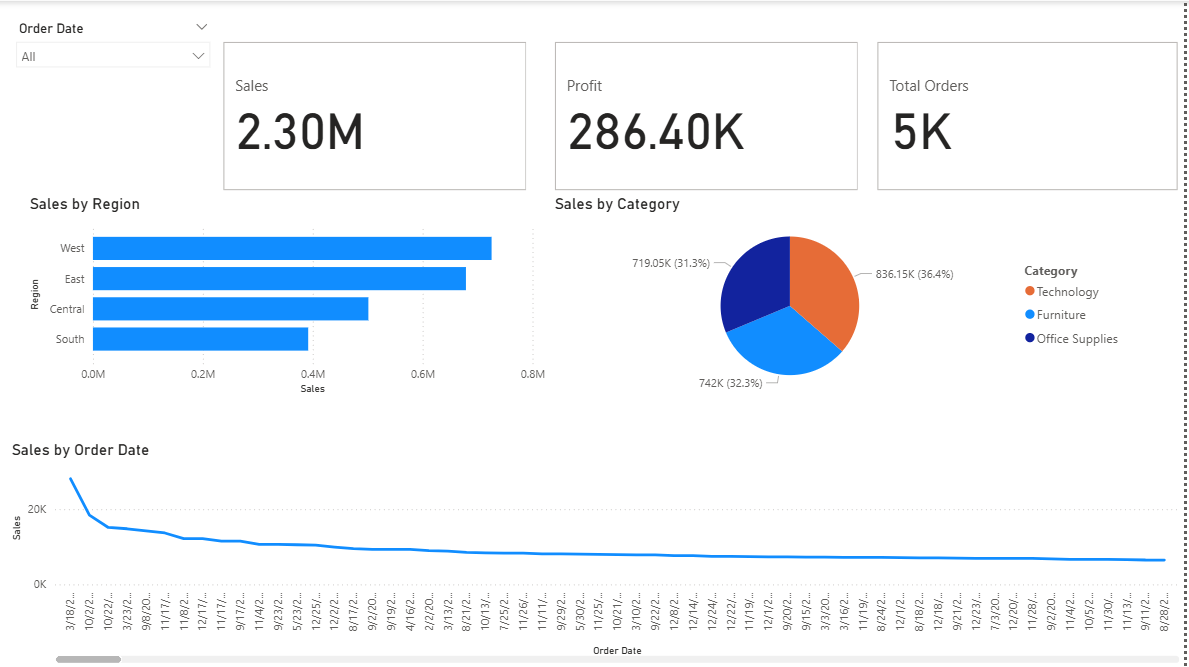

This screenshot's page, from the dashboard's own definition file:
{"tool":"powerbi","page":{"name":"Sales Overview","canvas":[1280,720],"ordinal":0},"visuals":[{"type":"cardVisual","fields":{"Data":["Sum(Sample - Superstore.Sales)"]},"box":[238.3,38.2,337.2,170.9],"z":0},{"type":"cardVisual","fields":{"Data":["Sum(Sample - Superstore.Profit)"]},"box":[595.8,38.2,337.2,170.9],"z":1000},{"type":"cardVisual","fields":{"Data":["Sample - Superstore.Total Orders"]},"box":[944.3,38.2,335,170.9],"z":2000},{"type":"clusteredBarChart","fields":{"Category":["Sample - Superstore.Region"],"Y":["Sum(Sample - Superstore.Sales)"]},"box":[29.2,209.1,566.6,220.3],"z":3000},{"type":"pieChart","fields":{"Category":["Sample - Superstore.Category"],"Y":["Sum(Sample - Superstore.Sales)"]},"box":[595.8,209.1,627.3,220.3],"z":4000},{"type":"lineChart","fields":{"Category":["Sample - Superstore.Order Date"],"Y":["Sum(Sample - Superstore.Sales)"]},"box":[9,474.4,1270.3,245.1],"z":5000},{"type":"slicer","fields":{"Values":["Sample - Superstore.Order Date"]},"box":[9,15.7,229.3,107.9],"z":5001}]}

Visuals, with their boxes in screenshot pixels (x1, y1, x2, y2), scaled from the page's 1280x720 canvas onto the 1189x667 screenshot:
cardVisual - Sum(Sample - Superstore.Sales): [left=221, top=35, right=535, bottom=194]
cardVisual - Sum(Sample - Superstore.Profit): [left=553, top=35, right=867, bottom=194]
cardVisual - Sample - Superstore.Total Orders: [left=877, top=35, right=1188, bottom=194]
clusteredBarChart - Sample - Superstore.Region x Sum(Sample - Superstore.Sales): [left=27, top=194, right=553, bottom=398]
pieChart - Sample - Superstore.Category x Sum(Sample - Superstore.Sales): [left=553, top=194, right=1136, bottom=398]
lineChart - Sample - Superstore.Order Date x Sum(Sample - Superstore.Sales): [left=8, top=439, right=1188, bottom=666]
slicer - Sample - Superstore.Order Date: [left=8, top=15, right=221, bottom=115]
